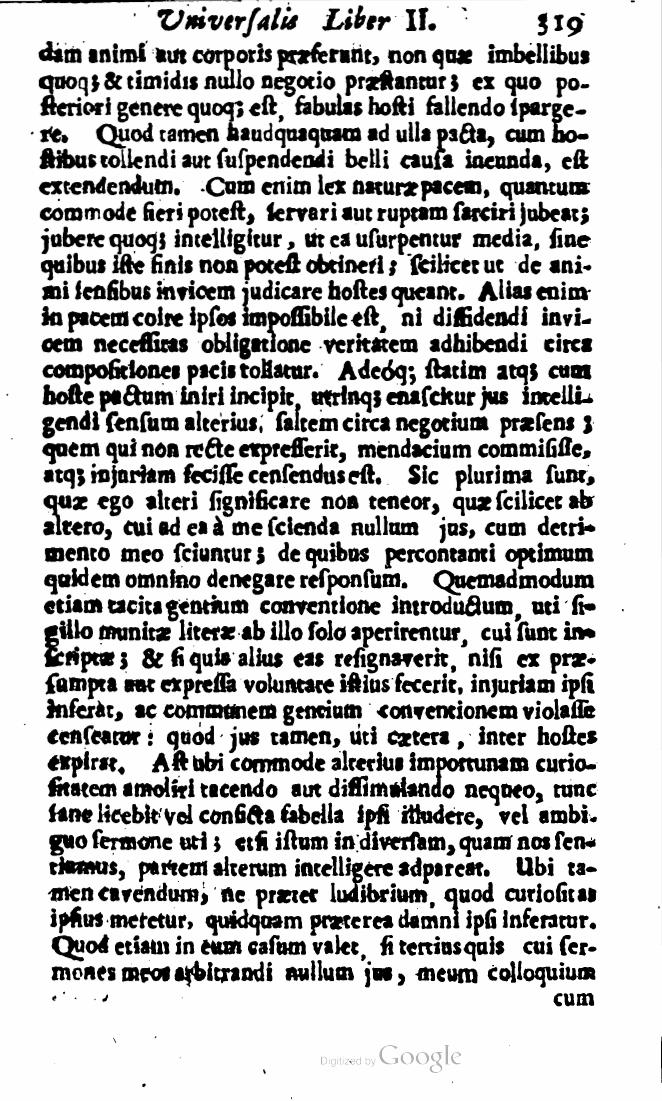catchword: (549, 990, 599, 1010)
header: (153, 3, 443, 39)
page_num: (533, 7, 586, 41)
top_p: (36, 37, 600, 987)
